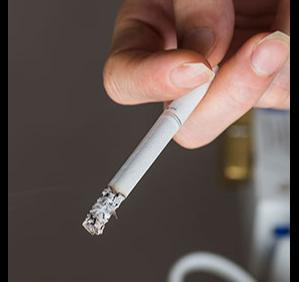Cigarette: (82, 61, 223, 236)
